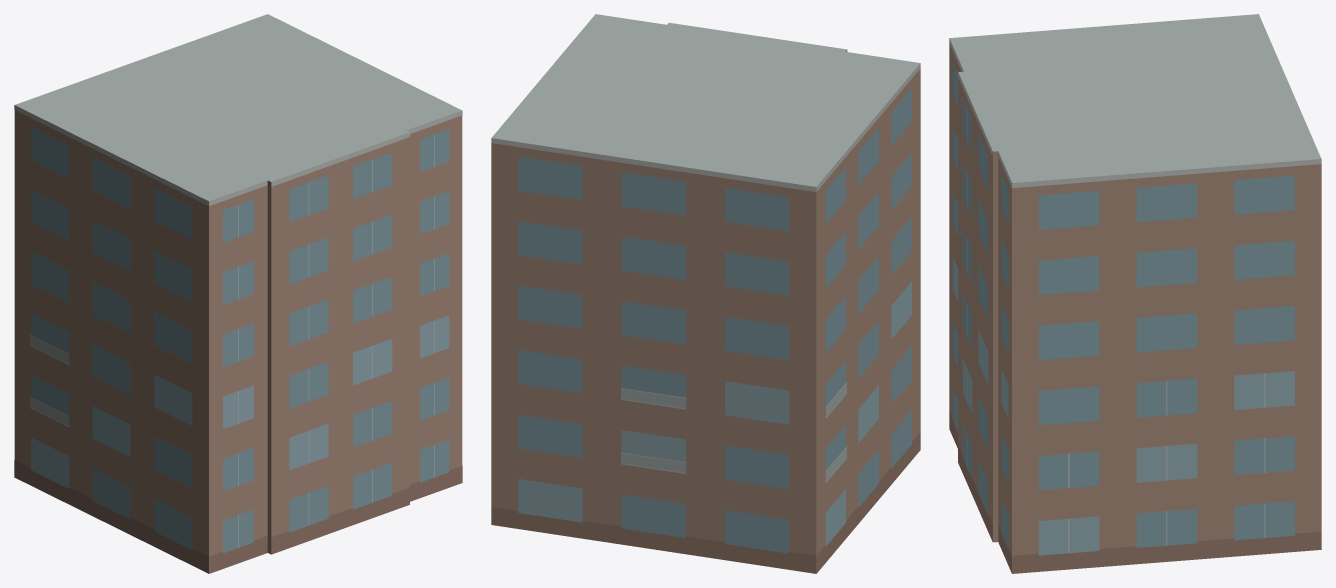
Rendered from survey-upis-32494523.glb.
The picture shows the model from 3 angles, left to right: view 1: azimuth 30°, elevation 25°; view 2: azimuth 150°, elevation 25°; view 3: azimuth 270°, elevation 25°; orthographic projection. The views are drawn at different scales.
Parts seen in each view (by area): view 1: survey-upis-32494523.tmp; view 2: survey-upis-32494523.tmp; view 3: survey-upis-32494523.tmp.
Part boxes in pixels (x1,y1,x2,y2): survey-upis-32494523.tmp: [14, 14, 462, 573]; survey-upis-32494523.tmp: [491, 14, 920, 573]; survey-upis-32494523.tmp: [949, 14, 1321, 573].
Size of the model in its own units: 17.42 by 18.76 by 16.2.
